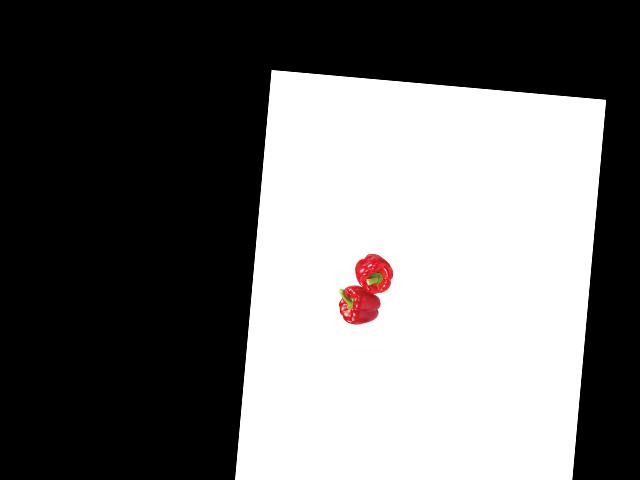bell_pepper: (334, 282, 385, 328)
